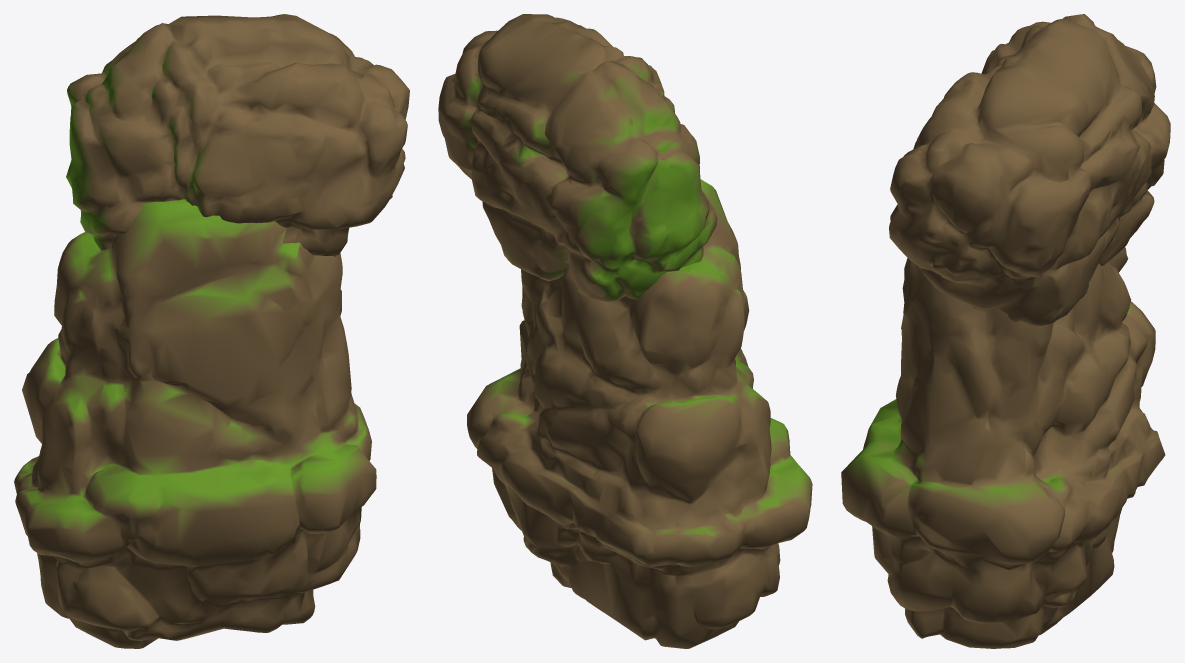
The model's file is cell_x1_z3_render.gltf.
3 renders of one model, left to right at view 1: azimuth 30°, elevation 25°; view 2: azimuth 150°, elevation 25°; view 3: azimuth 270°, elevation 25°, orthographic. The views are drawn at different scales.
Visible parts, largest first — view 1: SM_ENV_cliff_castle_02_LOD0.001, SM_ENV_cliff_castle_01_LOD0.019; view 2: SM_ENV_cliff_castle_02_LOD0.001, SM_ENV_cliff_castle_01_LOD0.019; view 3: SM_ENV_cliff_castle_02_LOD0.001, SM_ENV_cliff_castle_01_LOD0.019.
Boxes of the visible parts, x1,y1,x2,y2 form: SM_ENV_cliff_castle_02_LOD0.001: (14, 199, 376, 648); SM_ENV_cliff_castle_01_LOD0.019: (66, 14, 409, 256); SM_ENV_cliff_castle_02_LOD0.001: (467, 179, 812, 648); SM_ENV_cliff_castle_01_LOD0.019: (438, 14, 717, 301); SM_ENV_cliff_castle_02_LOD0.001: (841, 247, 1165, 648); SM_ENV_cliff_castle_01_LOD0.019: (889, 14, 1170, 326).
Bounding box in the file's own units: 97.62 × 150 × 72.62.
